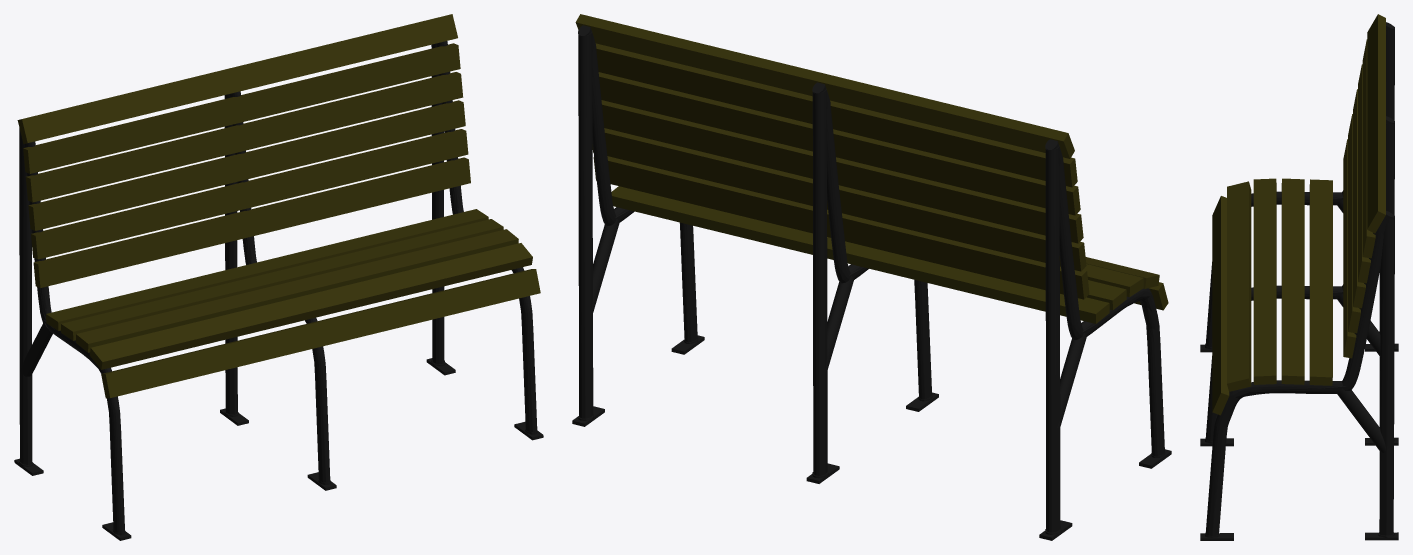
Rendered from Bench.fbx.
3 views of the same model, side by side, from view 1: azimuth 30°, elevation 25°; view 2: azimuth 150°, elevation 25°; view 3: azimuth 270°, elevation 25° (orthographic). The views are drawn at different scales.
Visible parts, largest first — view 1: Bench; view 2: Bench; view 3: Bench.
Boxes of the visible parts, x1,y1,x2,y2 form: Bench: (14, 14, 543, 540); Bench: (572, 14, 1171, 540); Bench: (1200, 14, 1398, 540).
Size of the model in its own units: 149 by 117 by 63.34.
